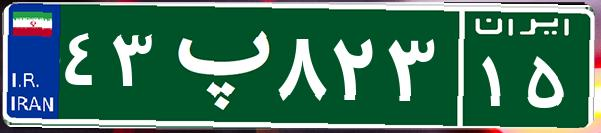1: (475, 38, 525, 113)
2: (330, 28, 385, 110)
3: (385, 28, 445, 110), (110, 28, 158, 105)
4: (57, 26, 110, 107)
5: (525, 38, 570, 115)
8: (273, 28, 330, 110)
پ: (158, 15, 273, 115)
